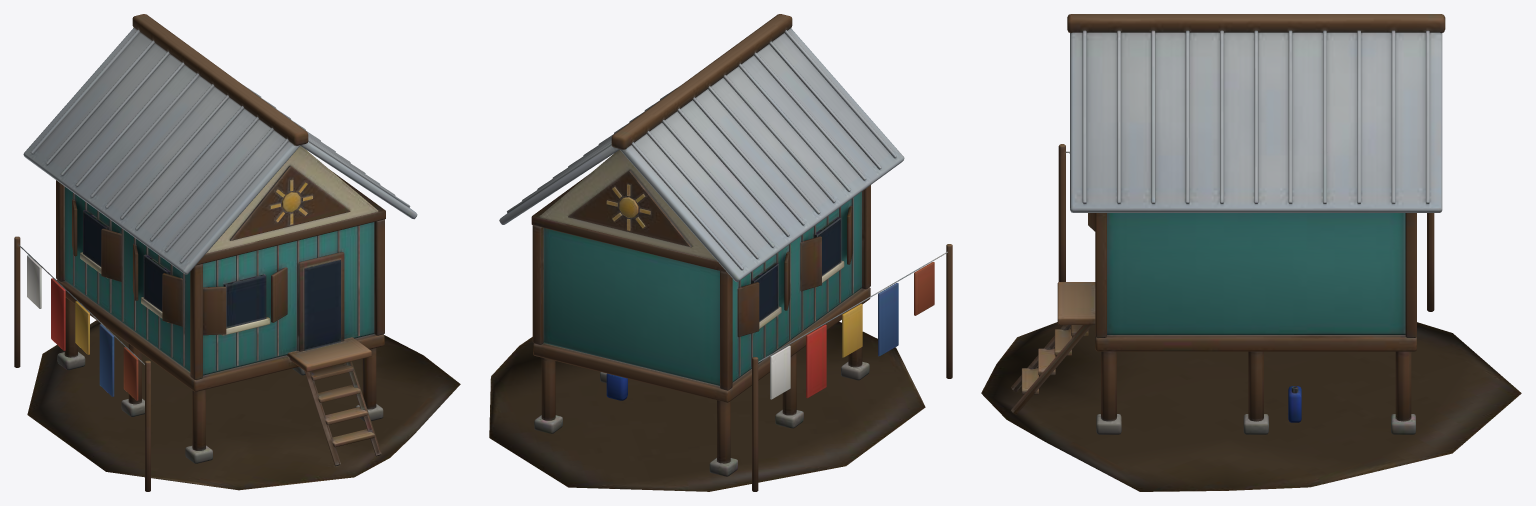
The model's file is aceh_house_a.glb.
The picture shows the model from 3 angles, left to right: view 1: azimuth 30°, elevation 25°; view 2: azimuth 150°, elevation 25°; view 3: azimuth 270°, elevation 25°; orthographic projection. The views are drawn at different scales.
Parts seen in each view (by area): view 1: aceh_house_a; view 2: aceh_house_a; view 3: aceh_house_a.
Boxes of the visible parts, bbox=[...] form: aceh_house_a: bbox=[14, 14, 460, 491]; aceh_house_a: bbox=[489, 14, 952, 491]; aceh_house_a: bbox=[981, 14, 1521, 491].
Bounding box in the file's own units: 4.9 × 4.2 × 5.58.
Materials: 1 (1 with a texture image).
